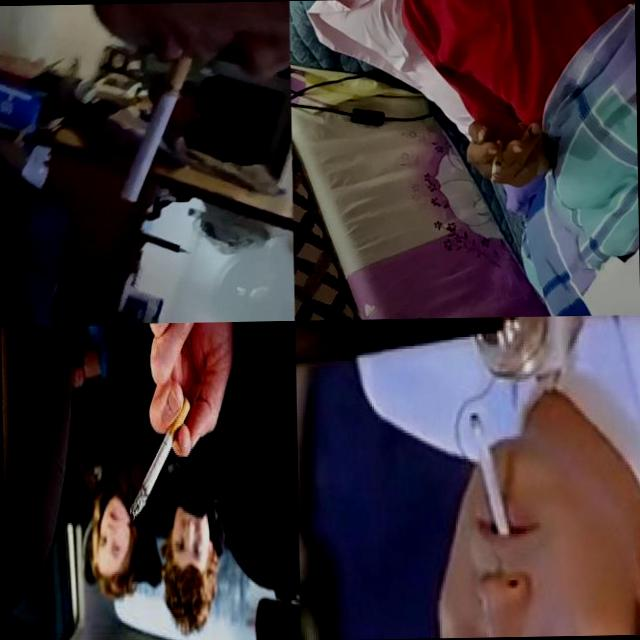cigarette: (114, 54, 194, 205), (126, 394, 192, 520), (470, 411, 510, 548), (489, 139, 504, 181)
